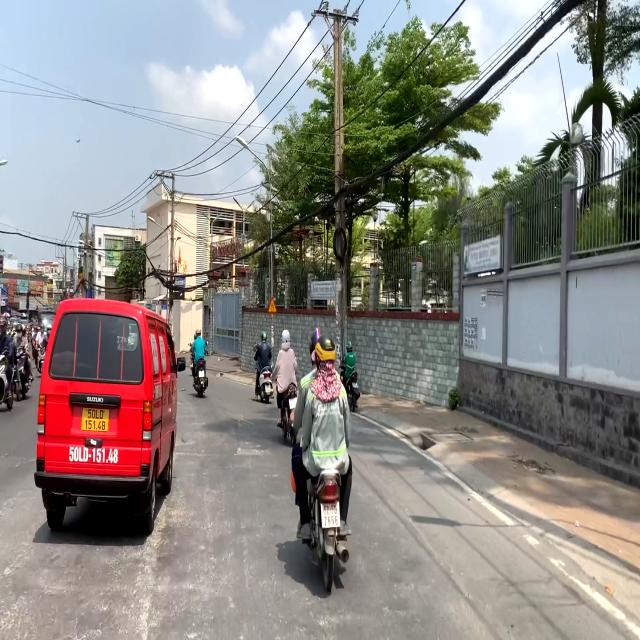W.203c: (268, 298, 277, 313)
